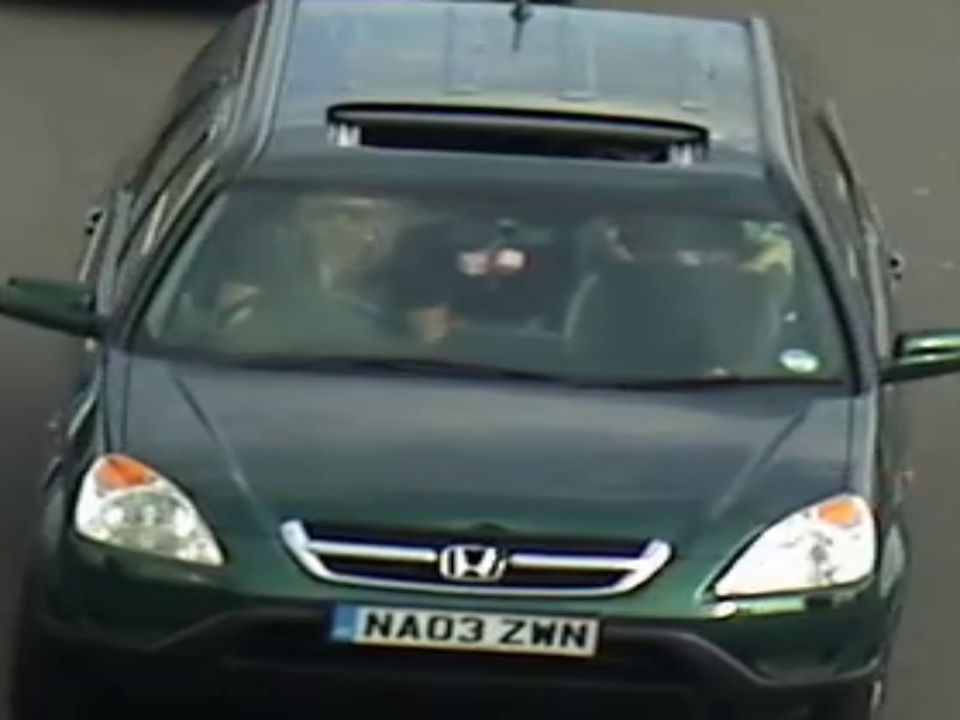ONE: (206, 184, 872, 417)
